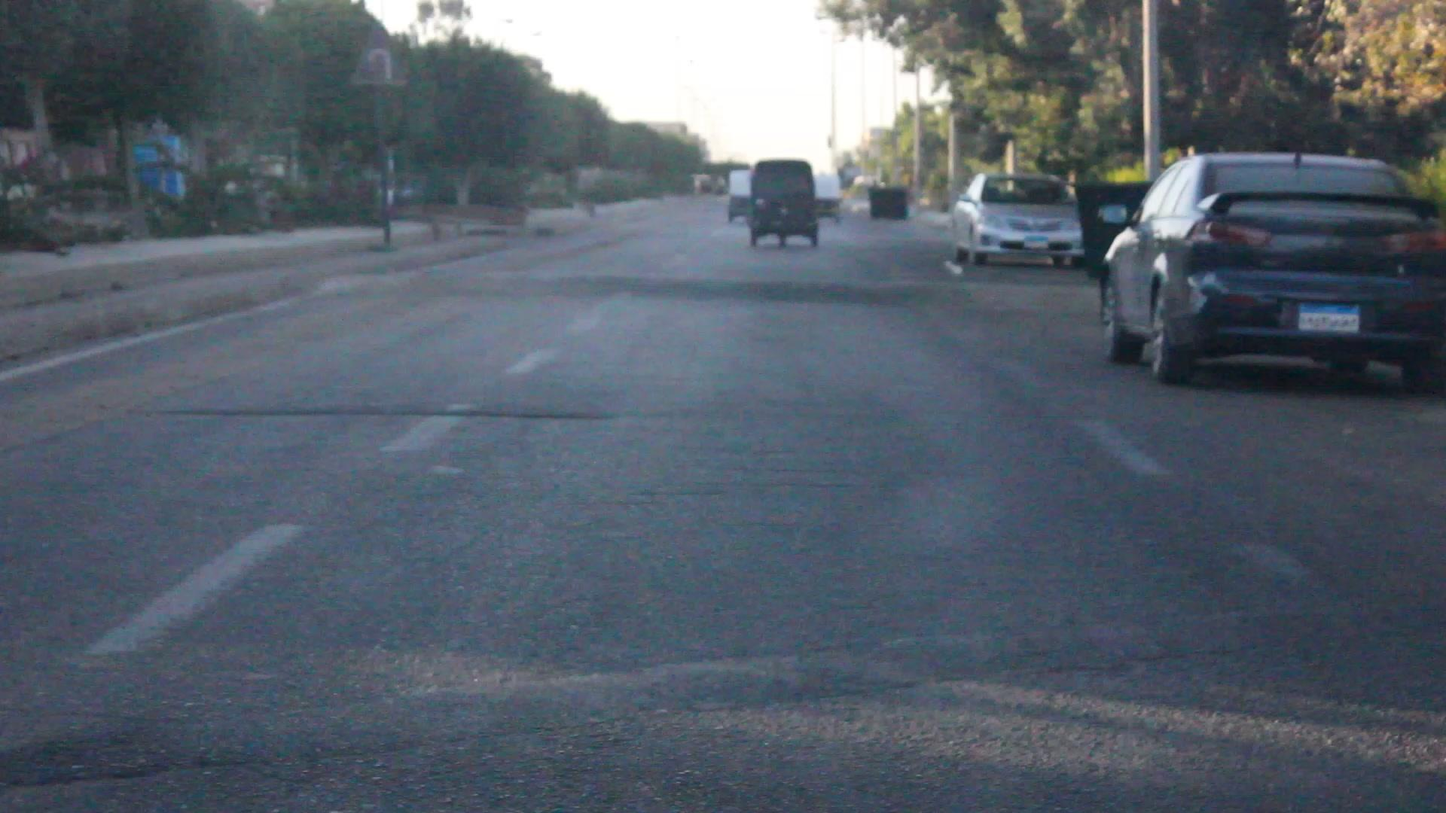Bump: (350, 275, 1107, 312)
